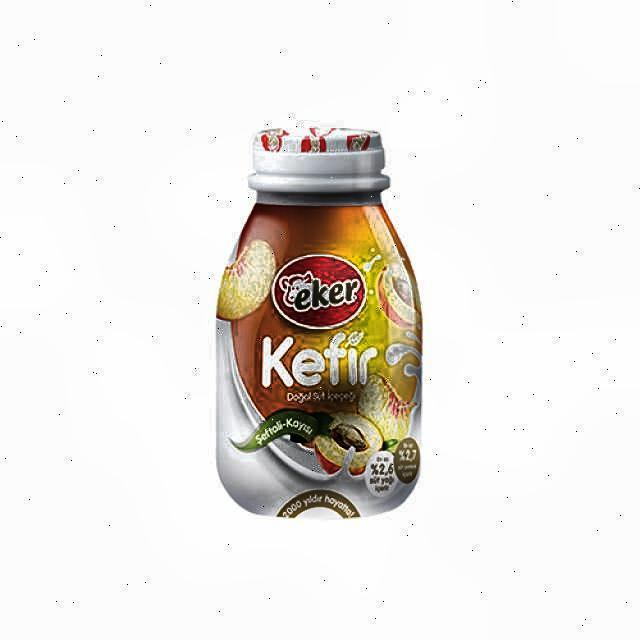plastic: (217, 128, 423, 521)
